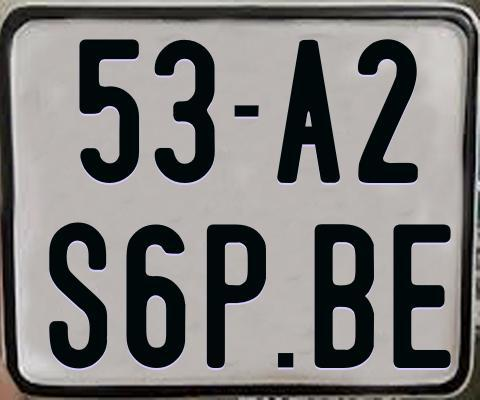2: (358, 36, 421, 183)
3: (155, 39, 217, 187)
5: (78, 38, 141, 182)
6: (126, 224, 188, 372)
A: (275, 38, 341, 184)
B: (314, 224, 377, 372)
E: (392, 222, 453, 372)
P: (205, 222, 268, 369)
S: (46, 219, 105, 366)
